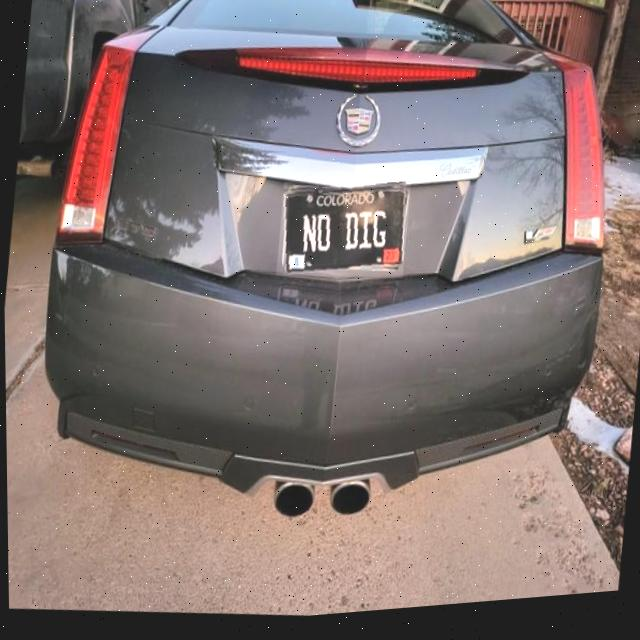LicensePlate: (282, 191, 405, 280)
